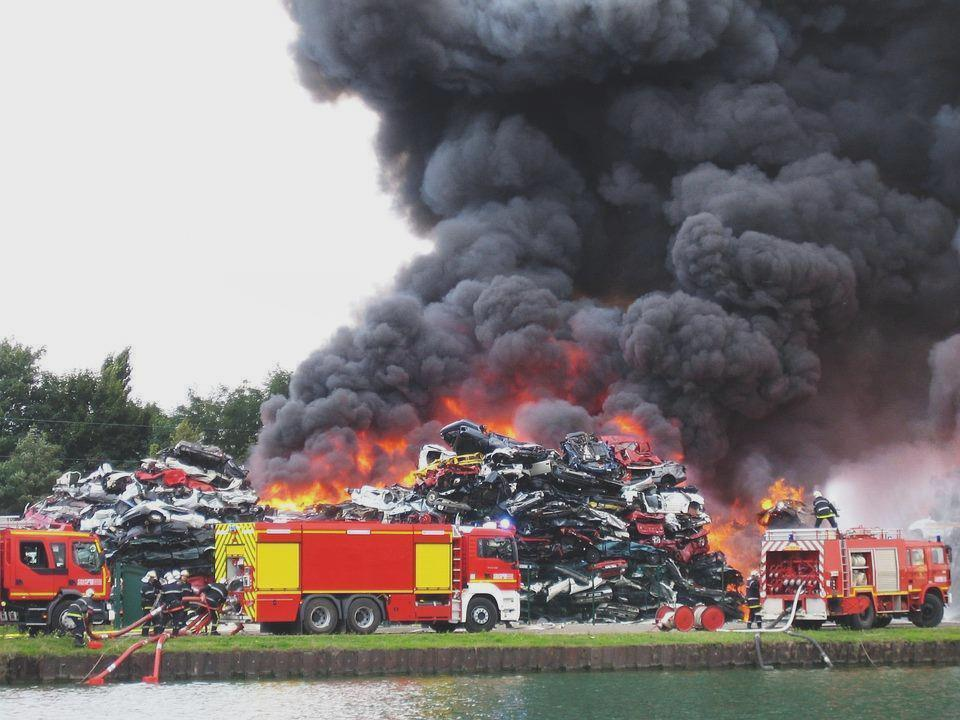fire: (247, 426, 428, 517), (705, 470, 805, 592), (440, 380, 542, 454), (600, 410, 694, 475)
